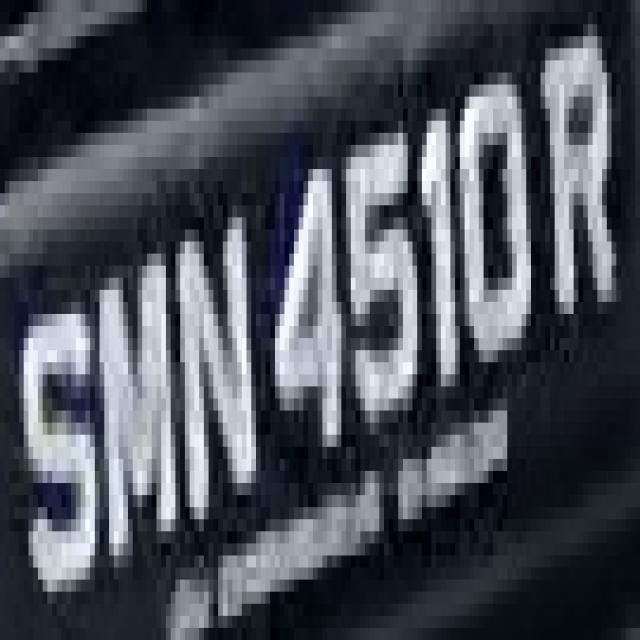0: (460, 72, 536, 447)
1: (412, 84, 464, 434)
4: (256, 109, 346, 471)
5: (342, 121, 418, 459)
M: (95, 217, 175, 580)
N: (161, 181, 266, 568)
R: (531, 24, 621, 350)
S: (15, 290, 104, 580)
